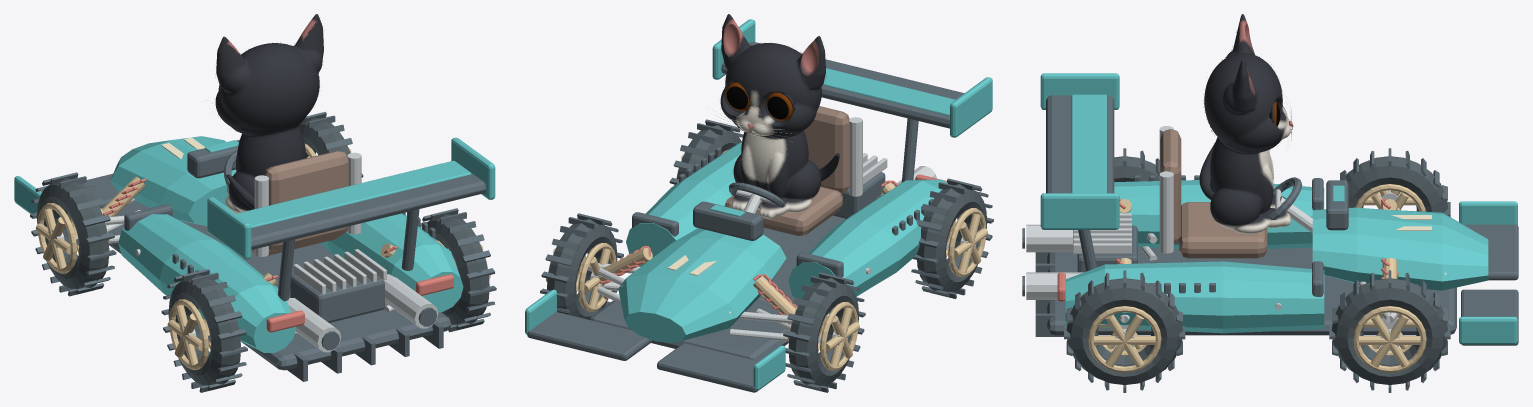
Rendered from mallow_kart.glb.
The picture shows the model from 3 angles, left to right: view 1: azimuth 30°, elevation 25°; view 2: azimuth 150°, elevation 25°; view 3: azimuth 270°, elevation 25°; orthographic projection. The views are drawn at different scales.
Parts seen in each view (by area): view 1: Continuous feline anatomy, Radiator sidepod, Undertray, Long sculpted nose, Rear aerofoil, Radiator sidepod.001, Rear wing enamel, Profiled racing tyre, Profiled racing tyre.001, Seat back, Profiled racing tyre.003, Engine block (+20 smaller); view 2: Continuous feline anatomy, Long sculpted nose, Radiator sidepod, Undertray, Radiator sidepod.001, Profiled racing tyre, Profiled racing tyre.001, Front wing.001, Rear aerofoil, Profiled racing tyre.002, Front wing, Seat back (+23 smaller); view 3: Continuous feline anatomy, Radiator sidepod.001, Long sculpted nose, Profiled racing tyre.002, Profiled racing tyre.003, Undertray, Radiator sidepod, Rear wing enamel, Bucket seat, Rear aerofoil, Profiled racing tyre, Wing endplate.002 (+19 smaller).
Part boxes in pixels (<box>): Continuous feline anatomy: <box>215,14,323,212</box>; Radiator sidepod: <box>118,214,296,352</box>; Undertray: <box>108,201,451,370</box>; Long sculpted nose: <box>110,136,236,225</box>; Rear aerofoil: <box>251,161,486,249</box>; Radiator sidepod.001: <box>320,213,463,312</box>; Rear wing enamel: <box>236,160,471,227</box>; Profiled racing tyre: <box>36,178,109,289</box>; Profiled racing tyre.001: <box>168,274,240,385</box>; Seat back: <box>264,151,348,250</box>; Profiled racing tyre.003: <box>427,214,489,325</box>; Engine block: <box>290,274,384,322</box>; Continuous feline anatomy: <box>720,14,825,219</box>; Long sculpted nose: <box>618,228,786,343</box>; Radiator sidepod: <box>788,179,947,313</box>; Undertray: <box>590,215,845,360</box>; Radiator sidepod.001: <box>626,142,741,266</box>; Profiled racing tyre: <box>788,277,858,385</box>; Profiled racing tyre.001: <box>917,184,987,292</box>; Front wing.001: <box>527,312,652,360</box>; Rear aerofoil: <box>721,42,964,128</box>; Profiled racing tyre.002: <box>547,219,617,319</box>; Front wing: <box>657,343,758,392</box>; Seat back: <box>804,106,849,193</box>; Continuous feline anatomy: <box>1204,14,1290,233</box>; Radiator sidepod.001: <box>1065,261,1324,333</box>; Long sculpted nose: <box>1312,207,1488,290</box>; Profiled racing tyre.002: <box>1331,278,1447,384</box>; Profiled racing tyre.003: <box>1066,278,1182,384</box>; Undertray: <box>1047,247,1456,335</box>; Radiator sidepod: <box>1114,180,1324,248</box>; Rear wing enamel: <box>1071,94,1106,193</box>; Bucket seat: <box>1179,202,1267,258</box>; Rear aerofoil: <box>1046,95,1114,193</box>; Profiled racing tyre: <box>1345,156,1447,213</box>; Wing endplate.002: <box>1040,193,1119,229</box>.
Size of the model in its own units: 2.59 by 2.43 by 3.78.
14 materials, 2 textured.
